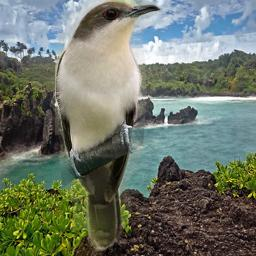Cuckoo: (55, 0, 162, 252)
